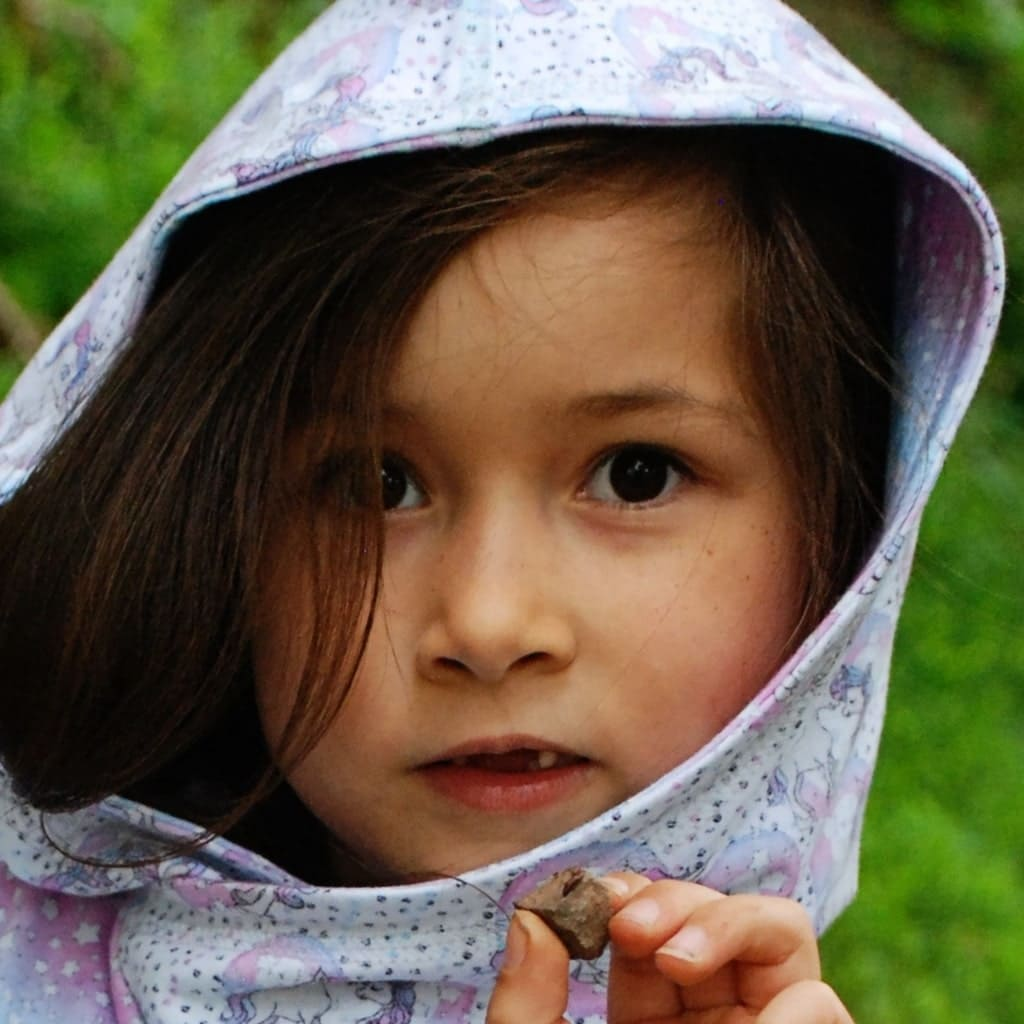without_mask: (267, 218, 770, 837)
